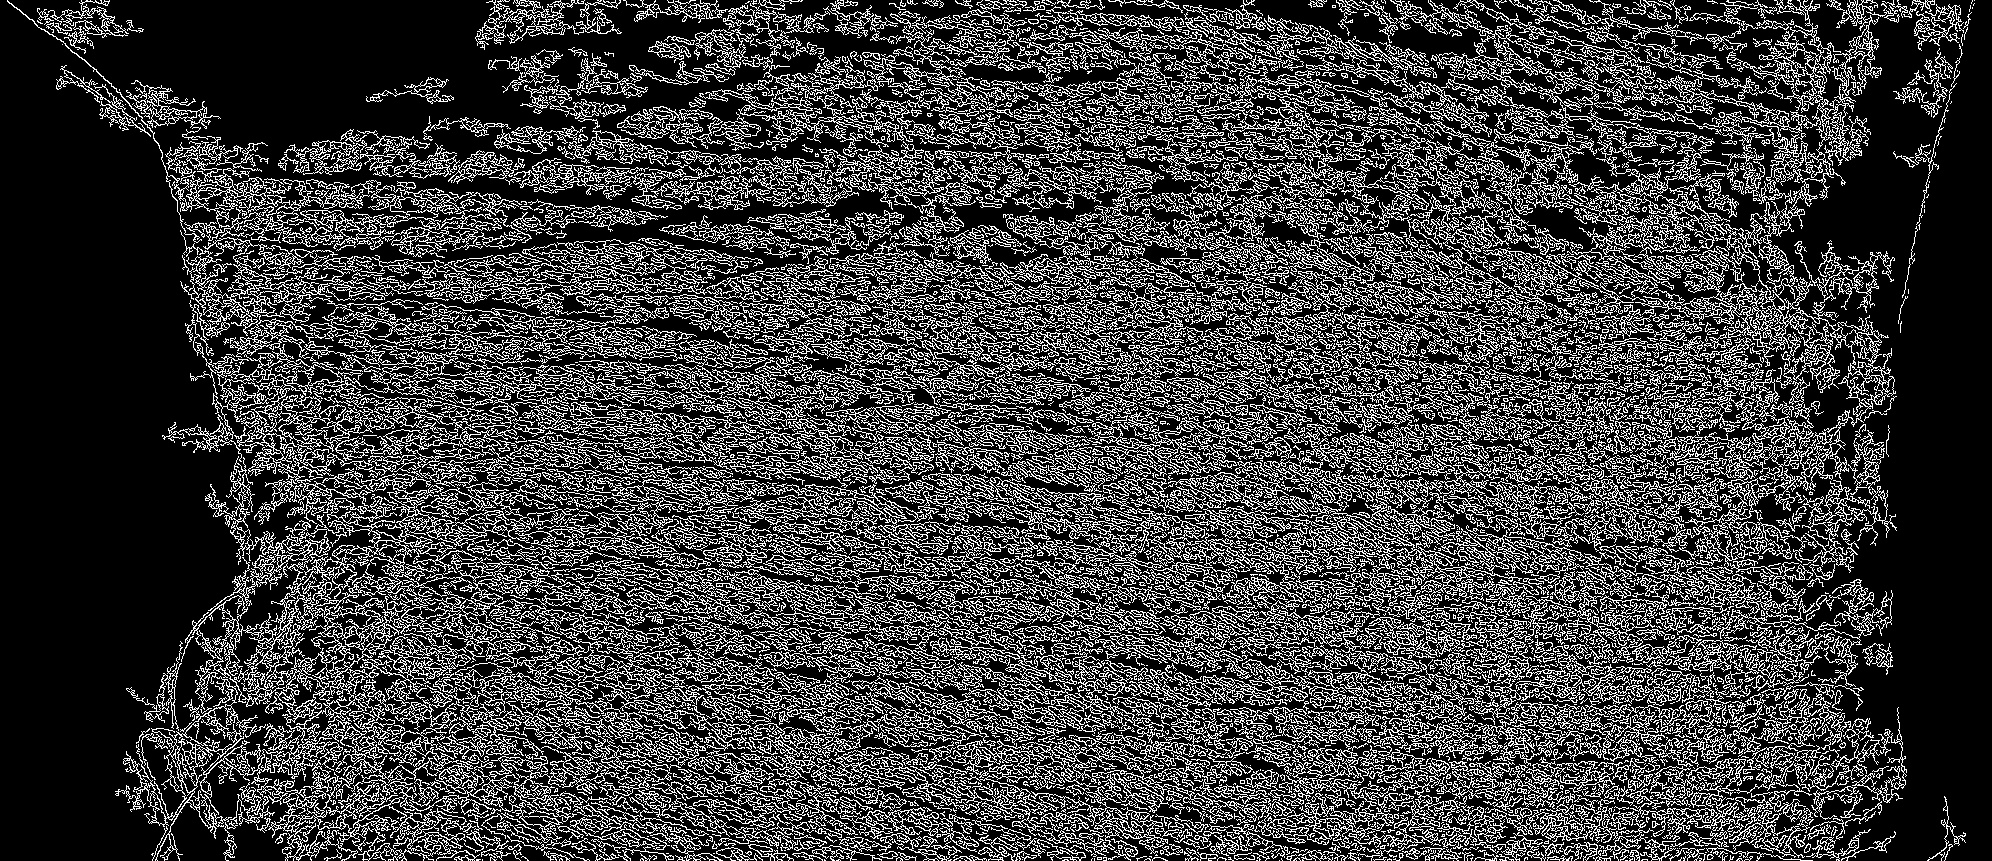singlecore: (462, 665, 466, 669), (885, 497, 889, 500), (1176, 356, 1180, 359), (1305, 464, 1309, 467), (1178, 601, 1181, 604), (1281, 290, 1283, 295), (1234, 384, 1236, 389), (542, 264, 546, 267), (542, 248, 545, 251), (875, 370, 878, 373), (911, 502, 913, 505), (878, 651, 880, 655), (901, 648, 903, 651), (880, 770, 883, 773), (828, 767, 832, 770), (1173, 262, 1176, 264), (1309, 352, 1311, 356), (1258, 406, 1262, 409), (1289, 339, 1293, 342), (1286, 519, 1289, 522), (1267, 470, 1270, 472), (1254, 601, 1256, 604), (1216, 608, 1220, 611), (1315, 712, 1317, 716), (564, 790, 567, 792), (822, 367, 824, 370), (777, 481, 780, 484), (803, 417, 805, 419), (879, 622, 882, 625), (922, 690, 925, 692), (1232, 293, 1235, 296), (1269, 645, 1272, 648), (1253, 616, 1255, 618), (1203, 589, 1206, 592), (1274, 688, 1277, 691)
